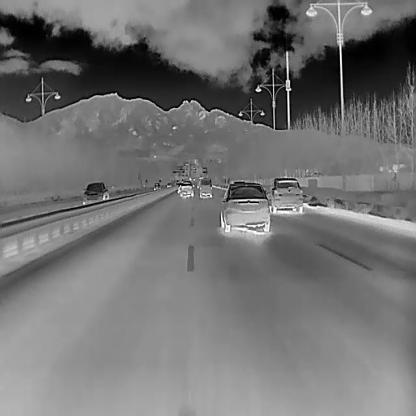car: (219, 181, 270, 233), (268, 176, 303, 213), (83, 181, 109, 203), (178, 180, 194, 198), (199, 178, 212, 197), (152, 181, 161, 190), (166, 180, 172, 188), (175, 179, 179, 184)
